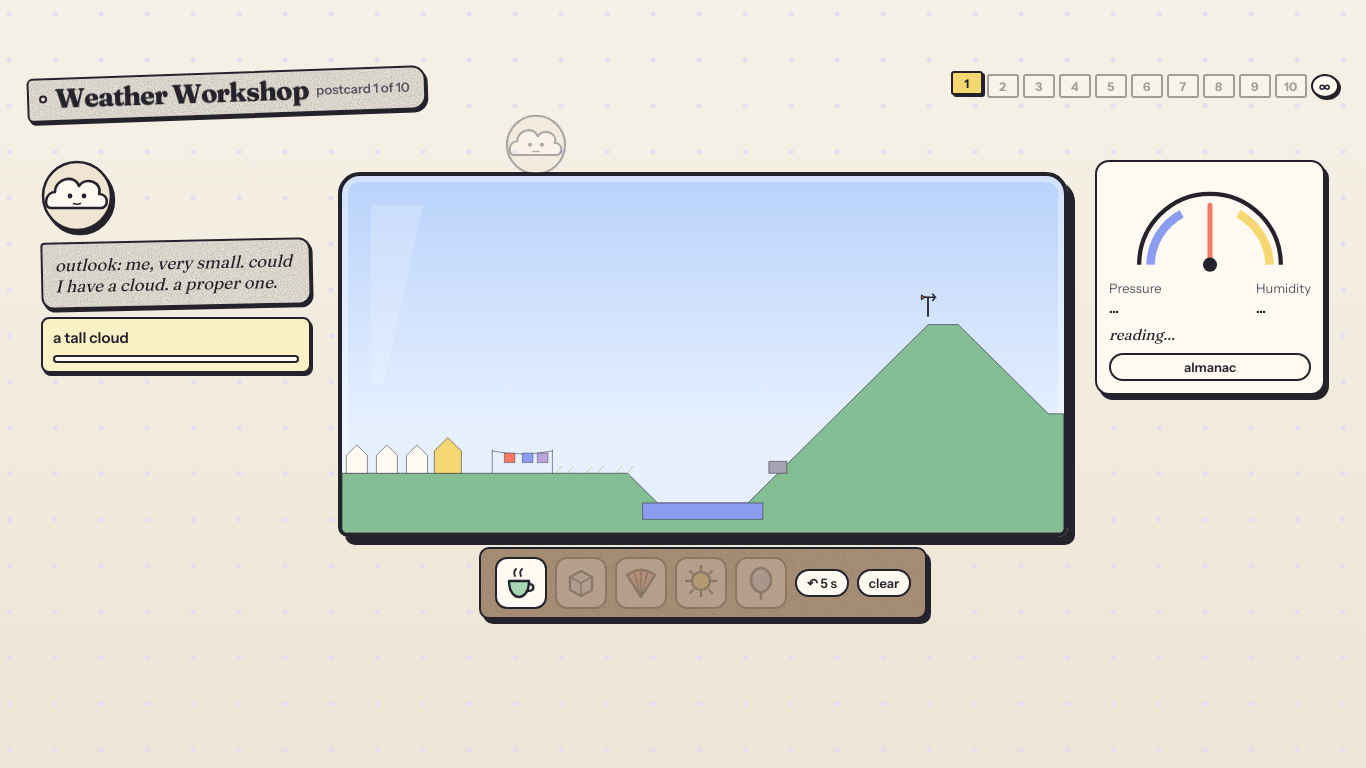
Scenario: <Workshop /> › the weathervane goes up and down; the sandbox has everything
Step 1. Click the button named "The sandbox valley" → (1325, 86), box [1311,74,1339,98]
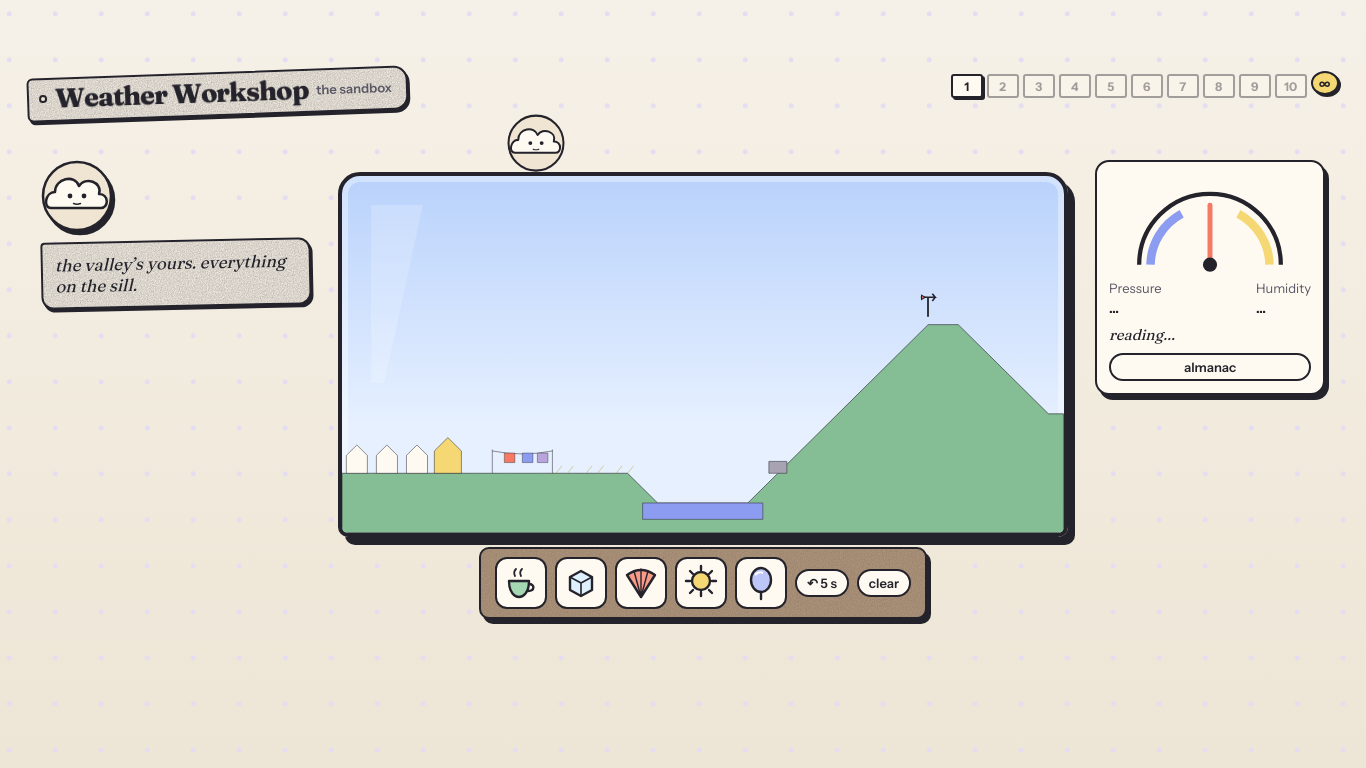
Result: the button named "Mirror" is enabled at [735,557,787,609]
Step 2. Click the button named "weathervane, up" → (928, 306), box [918,288,939,325]
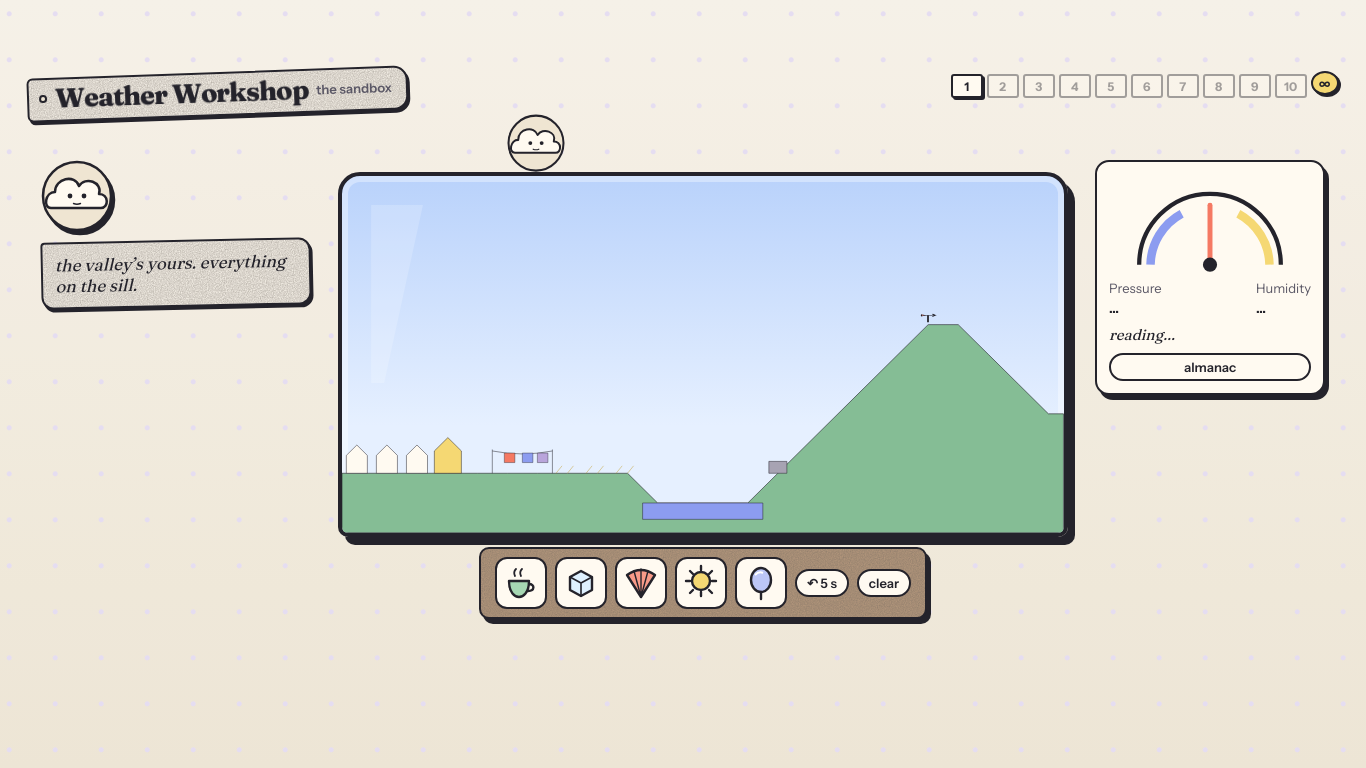
Result: the button named "weathervane, lowered" is shown at [918,312,939,325]
